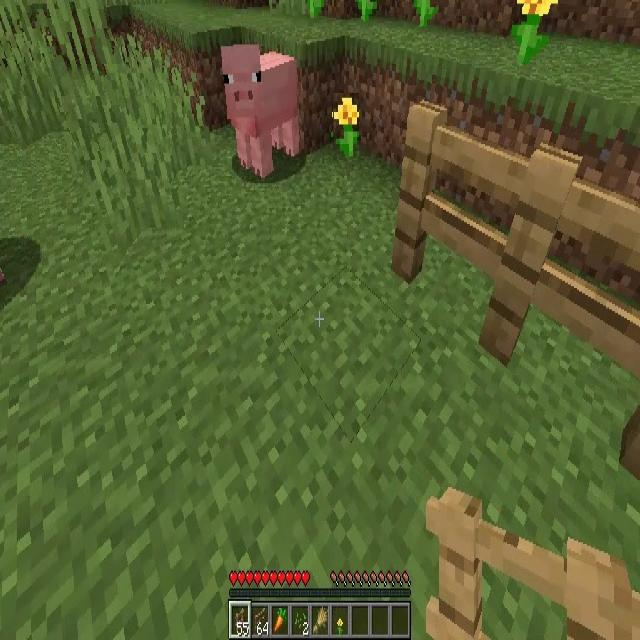flower: (512, 0, 558, 67), (334, 93, 359, 160)
pig: (221, 44, 298, 179)
